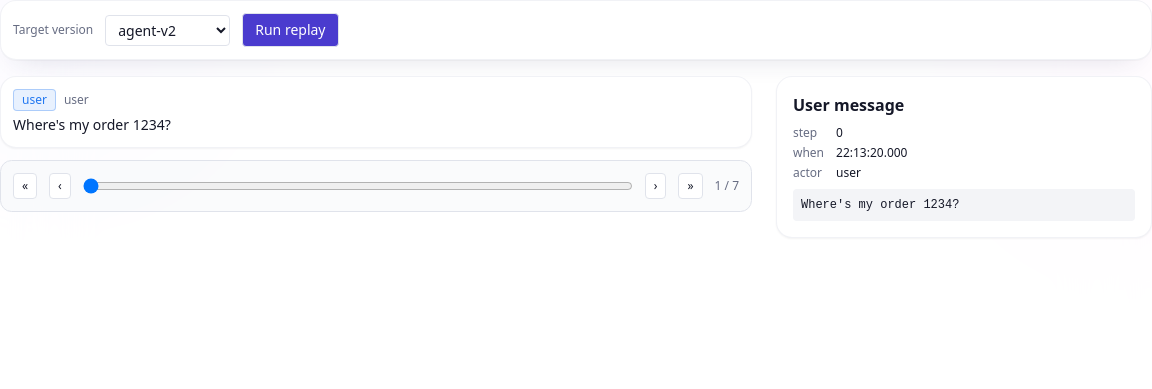
Test: ReplayPlayer › renders the active event detail with attributes
Set the slider with test id "replay-scrubber" to "2". click: (269, 186)
box: x1=83 y1=178 x2=633 y2=194
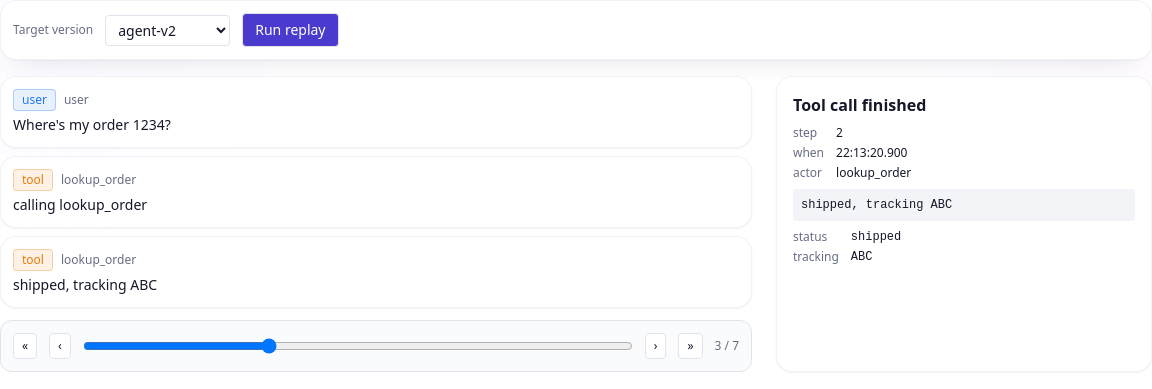
Now the element with test id "replay-event-detail" shows "Tool call finished", box x1=793 y1=94 x2=926 y2=116
Now the element with test id "replay-event-detail" shows "status", box x1=793 y1=228 x2=827 y2=245
Now the element with test id "replay-event-detail" shows "shipped", box x1=851 y1=230 x2=901 y2=244
